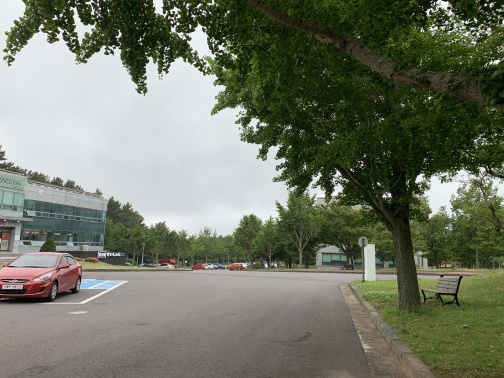Global House: (2, 167, 130, 267)
Second Library: (309, 238, 398, 271)
